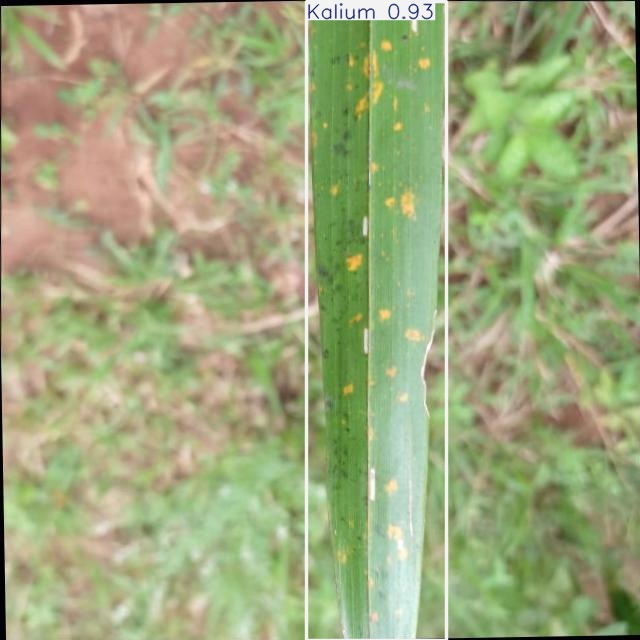Kalium: (307, 1, 447, 640)
